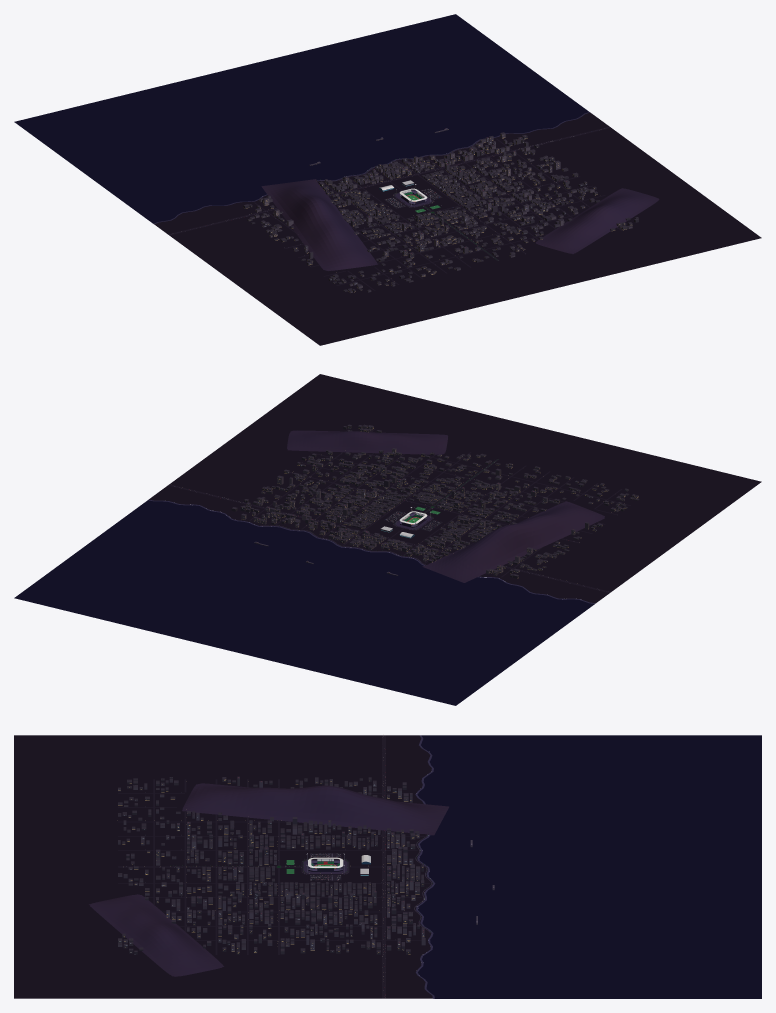
File: stadium.glb
The picture shows the model from 3 angles, top to bottom: view 1: azimuth 30°, elevation 25°; view 2: azimuth 150°, elevation 25°; view 3: azimuth 270°, elevation 25°; orthographic projection. The views are drawn at different scales.
Visible parts, largest first — view 1: Env_Terrain, Env_City, Env_Hills, Env_Roads; view 2: Env_Terrain, Env_City, Env_Hills, Env_Roads; view 3: Env_Terrain, Env_City, Env_Hills, Env_Roads.
Boxes of the visible parts, x1,y1,x2,y2 form: Env_Terrain: (14,14,761,345); Env_City: (243,132,638,293); Env_Hills: (261,179,659,270); Env_Roads: (168,126,621,290); Env_Terrain: (14,374,761,705); Env_City: (231,424,639,578); Env_Hills: (287,430,604,582); Env_Roads: (168,429,630,592); Env_Terrain: (14,735,761,998); Env_City: (118,776,425,954); Env_Hills: (89,783,448,976); Env_Roads: (118,735,432,998).
Size of the model in its own units: 4801 by 197 by 5760.
